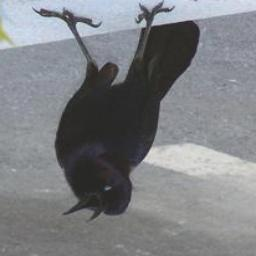Crow: (31, 2, 199, 225)
